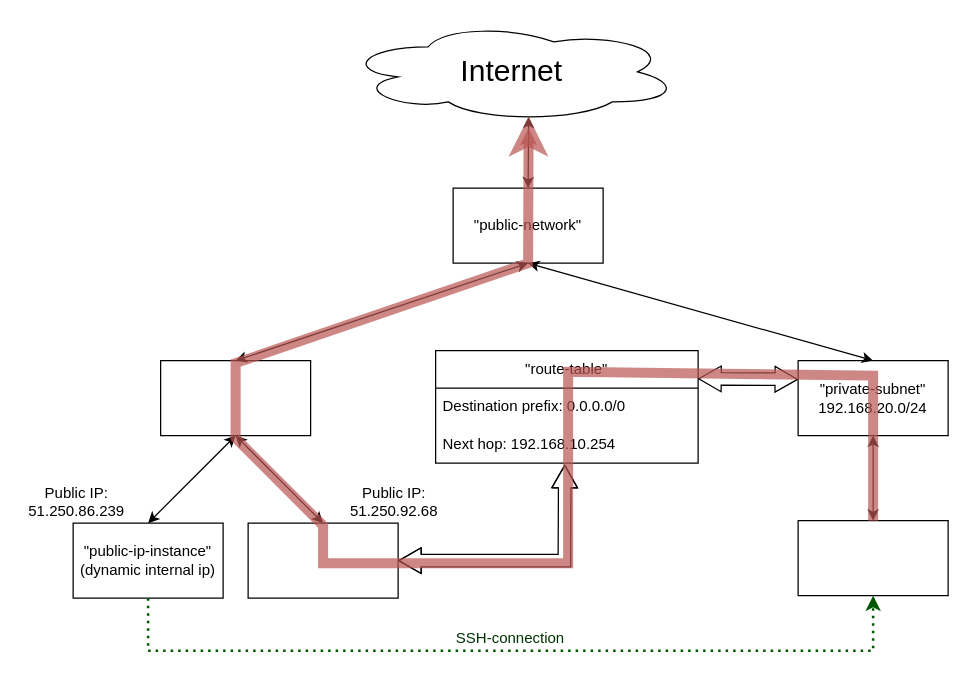
This 970x684 diagram has some shape labels left out. Each missing label, with the centre of its shape:
"NAT instance" 192.168.10.254: pixel 322 560
"private-ip-instance" (dynamic internal ip): pixel 872 557
"public-subnet" 192.168.10.0/24: pixel 235 397
